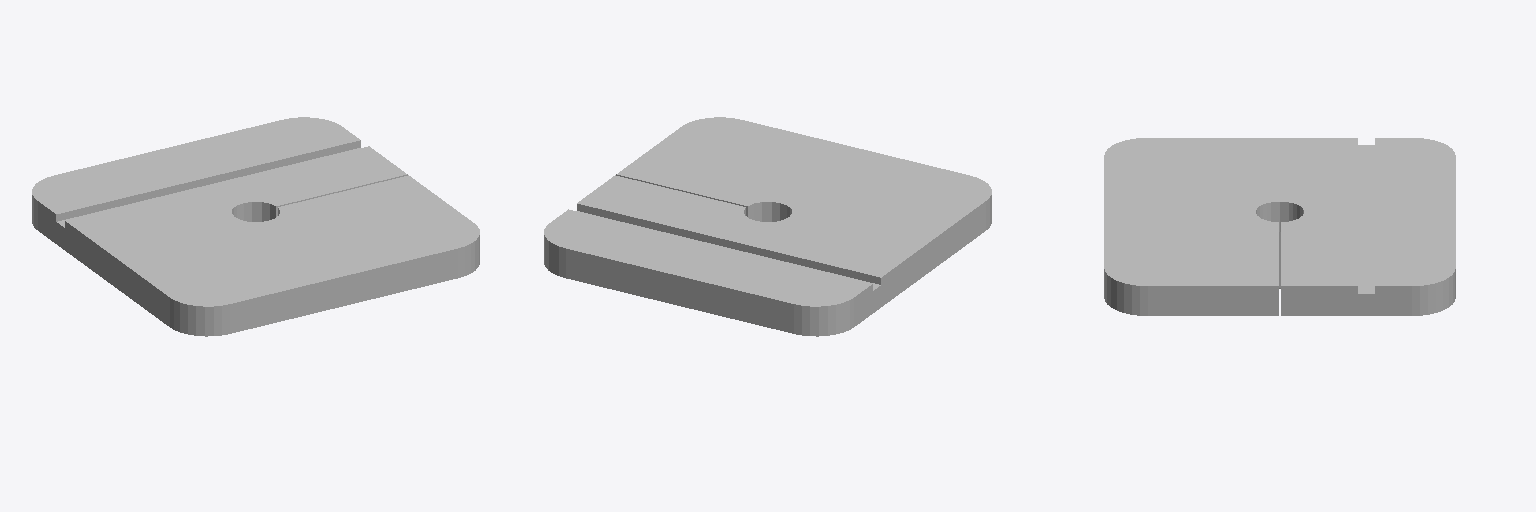
Rendered from deck.obj.
3 views of the same model, side by side, from view 1: azimuth 30°, elevation 25°; view 2: azimuth 150°, elevation 25°; view 3: azimuth 270°, elevation 25° (orthographic).
Parts seen in each view (by area): view 1: object_1; view 2: object_1; view 3: object_1.
Boxes of the visible parts, x1=… form: object_1: x1=32, y1=117, x2=479, y2=336; object_1: x1=544, y1=117, x2=991, y2=336; object_1: x1=1104, y1=138, x2=1455, y2=315.
Bounding box in the file's own units: 16 × 4.42 × 16.